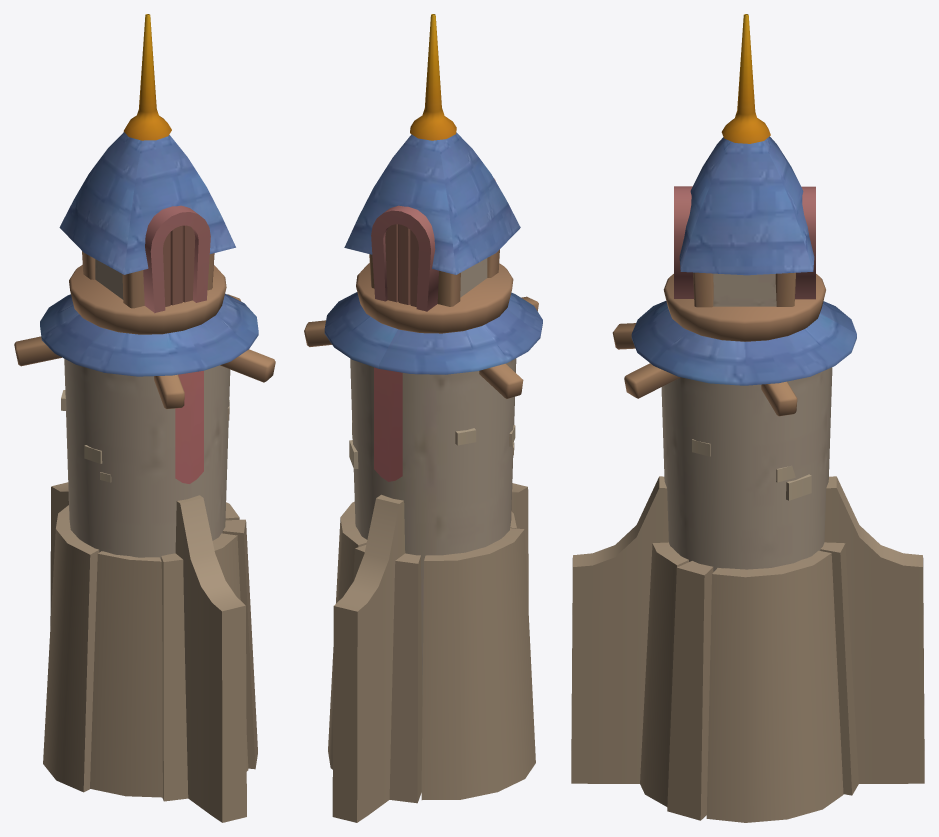
Rendered from Tower.glb.
3 renders of one model, left to right at view 1: azimuth 30°, elevation 25°; view 2: azimuth 150°, elevation 25°; view 3: azimuth 270°, elevation 25°, orthographic. The views are drawn at different scales.
Parts seen in each view (by area): view 1: ct_town_tower_1; view 2: ct_town_tower_1; view 3: ct_town_tower_1.
Part boxes in pixels (x1,y1,x2,y2): ct_town_tower_1: [14, 14, 275, 822]; ct_town_tower_1: [304, 14, 542, 822]; ct_town_tower_1: [571, 14, 924, 822].
Bounding box in the file's own units: 3.73 × 11.99 × 5.04.
4 materials, 4 textured.
